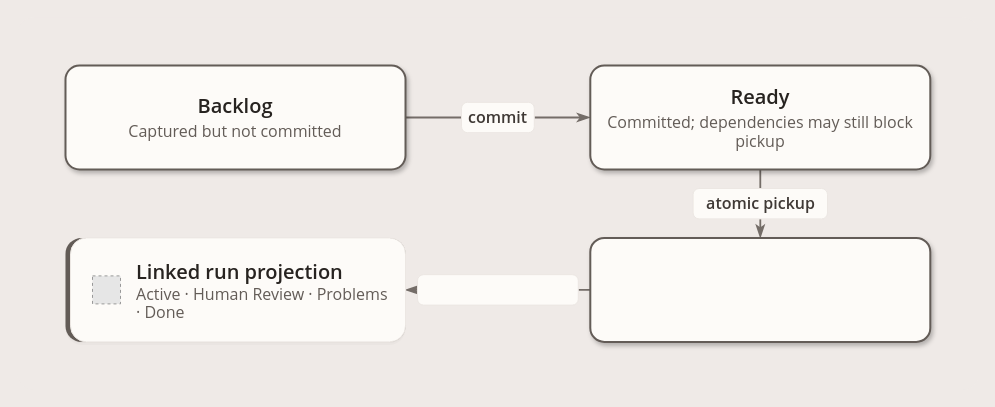
The diagram is 995 pixels wide and 407 high, and some of its shapes have lost their labels. Grey dashed boxes stand in for pictures. The shapes that lost their labels are listed below. From the top down, each one's centre as x and y in pixels, then its label:
At [497,289]: "RunId + WorkPlan".
At [761,290]: "Claimed Run ID persisted atomically".
